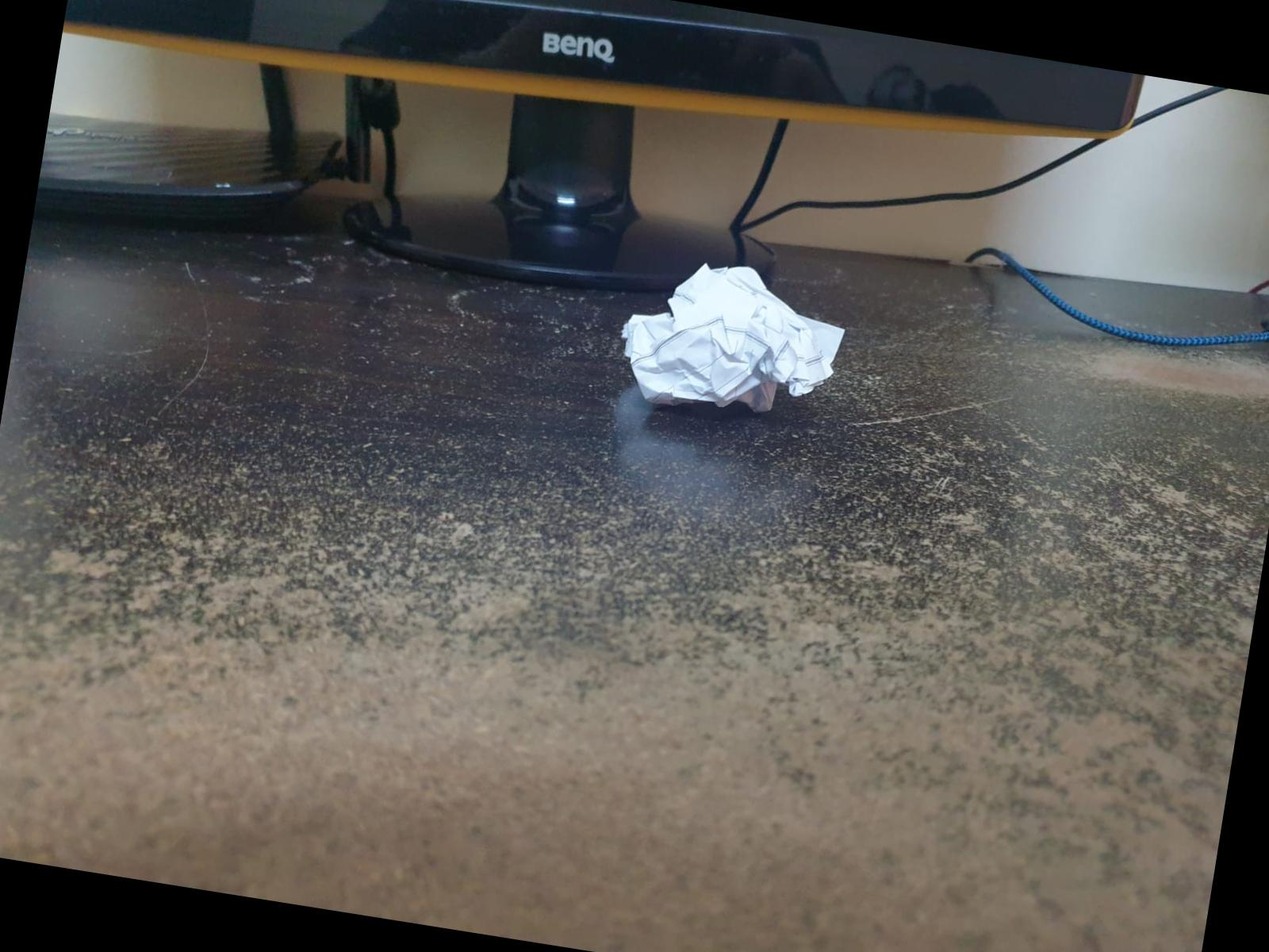Kertas: (621, 265, 855, 412)
